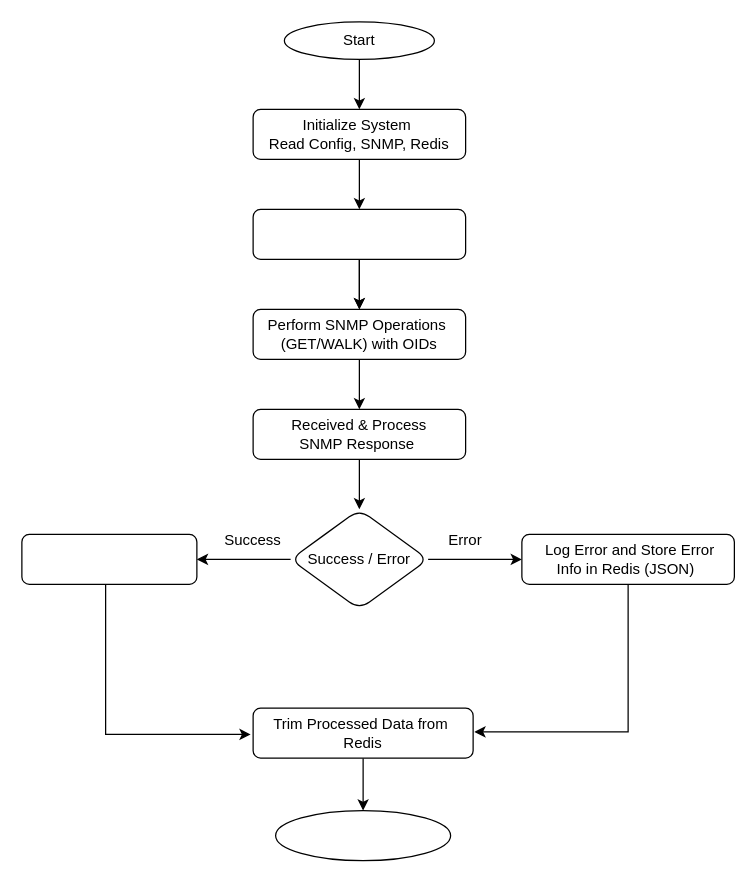
Image size: 756x883. Some labels were removed from this diagram. Here are the shapes that lost their labels. From the top down, the centre of each, then its label:
pixel 359 233: Retrieve SNMP OIDs from Redis
pixel 109 558: Format & Store Results in Redis (JSON)
pixel 362 835: END
